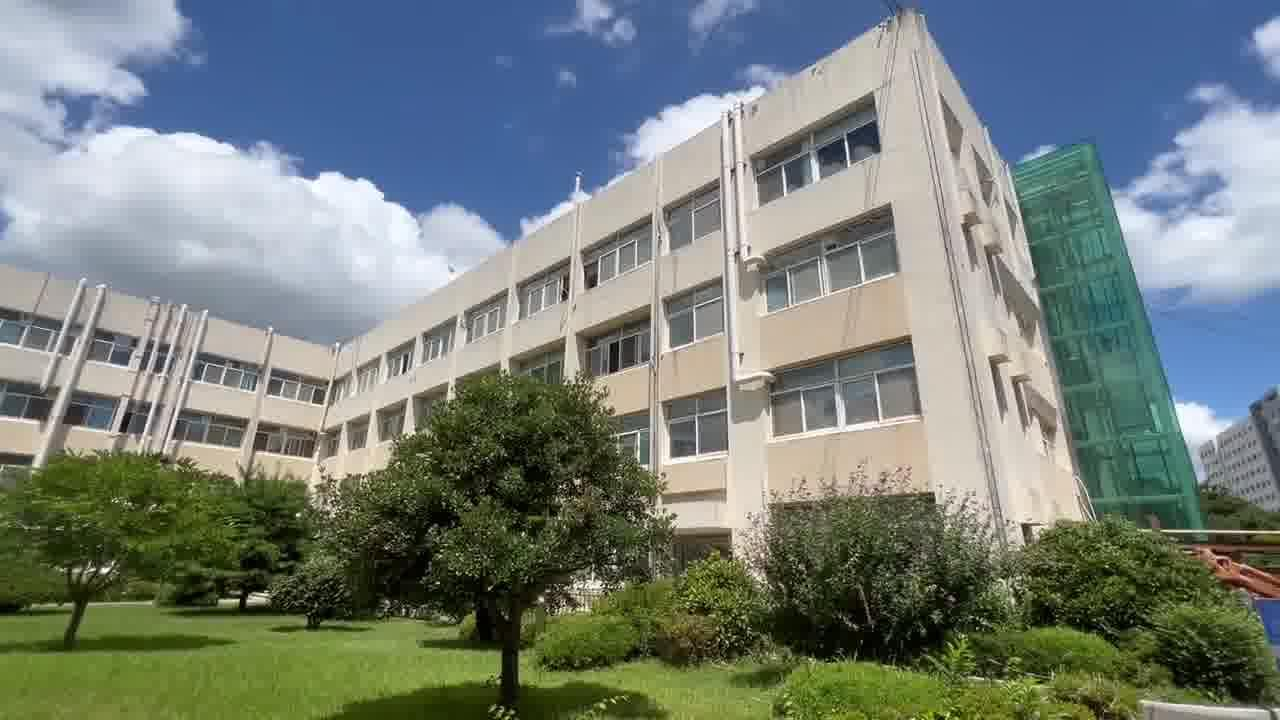building: (649, 79, 1165, 501)
